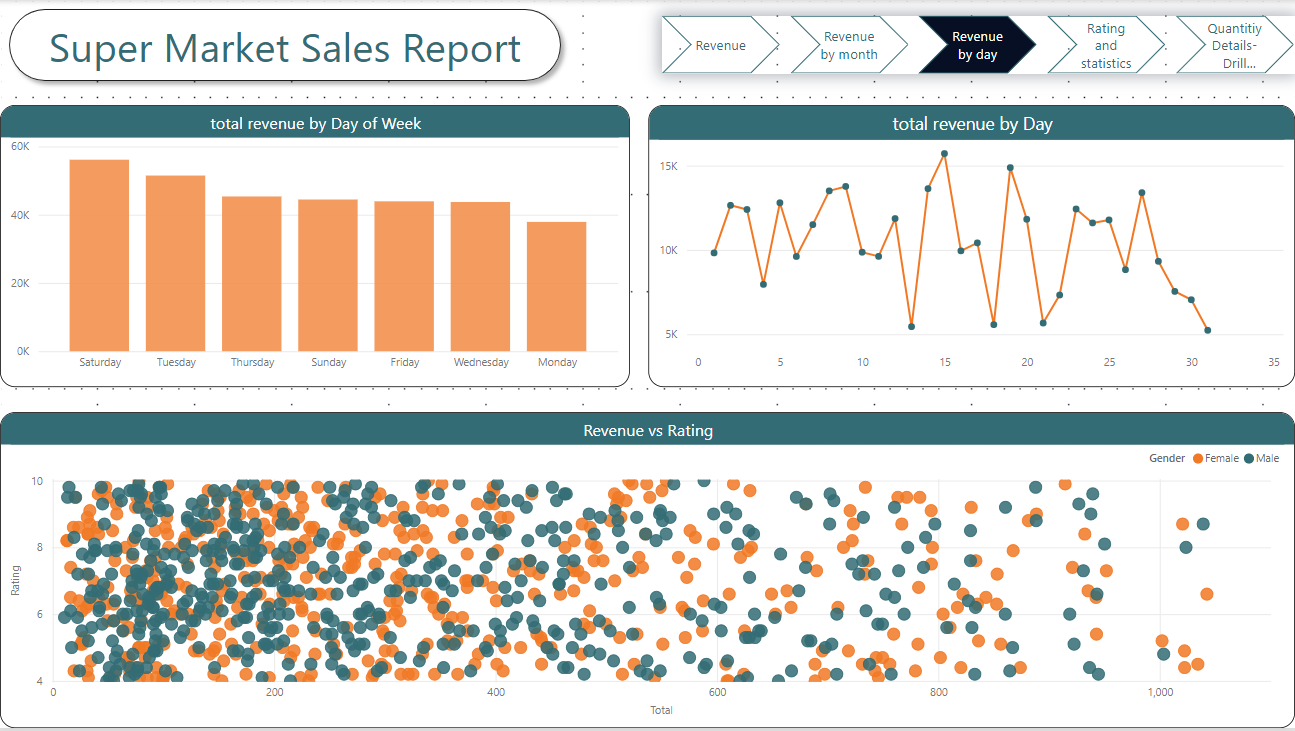

The page's visual inventory and layout, read from the dashboard file:
{"tool":"powerbi","page":{"name":"Revenue by day","canvas":[1280,720],"ordinal":2},"visuals":[{"type":"clusteredColumnChart","title":"total revenue by Week Day","fields":{"Y":["DimDate.total revenue"],"Category":["SuperMarket Sales Final.Column 2"]},"box":[0,103.8,622.5,278.7],"z":0},{"type":"lineChart","fields":{"Y":["DimDate.total revenue"],"Category":["DimDate.Date.Variation.Date Hierarchy.Day"]},"box":[640.5,103.6,639.3,278.6],"z":1000},{"type":"scatterChart","title":"Revenue vs Rating","fields":{"X":["SuperMarket Sales Final.Total"],"Y":["SuperMarket Sales Final.Rating"],"Series":["SuperMarket Sales Final.Gender"]},"box":[0,407.8,1280,312.5],"z":2000},{"type":"shape","box":[0,0,563.5,89],"z":3000},{"type":"pageNavigator","box":[653.6,15.5,626.2,57.1],"z":4000}]}

Visuals, with their boxes in screenshot pixels (x1, y1, x2, y2), scaled from the page's 1280x720 canvas onto the 1295x731 screenshot:
"total revenue by Week Day" clusteredColumnChart: (0,105,630,388)
lineChart - DimDate.total revenue x DimDate.Date.Variation.Date Hierarchy.Day: (648,105,1294,388)
"Revenue vs Rating" scatterChart: (0,414,1294,730)
shape: (0,0,570,90)
pageNavigator: (661,16,1294,74)
